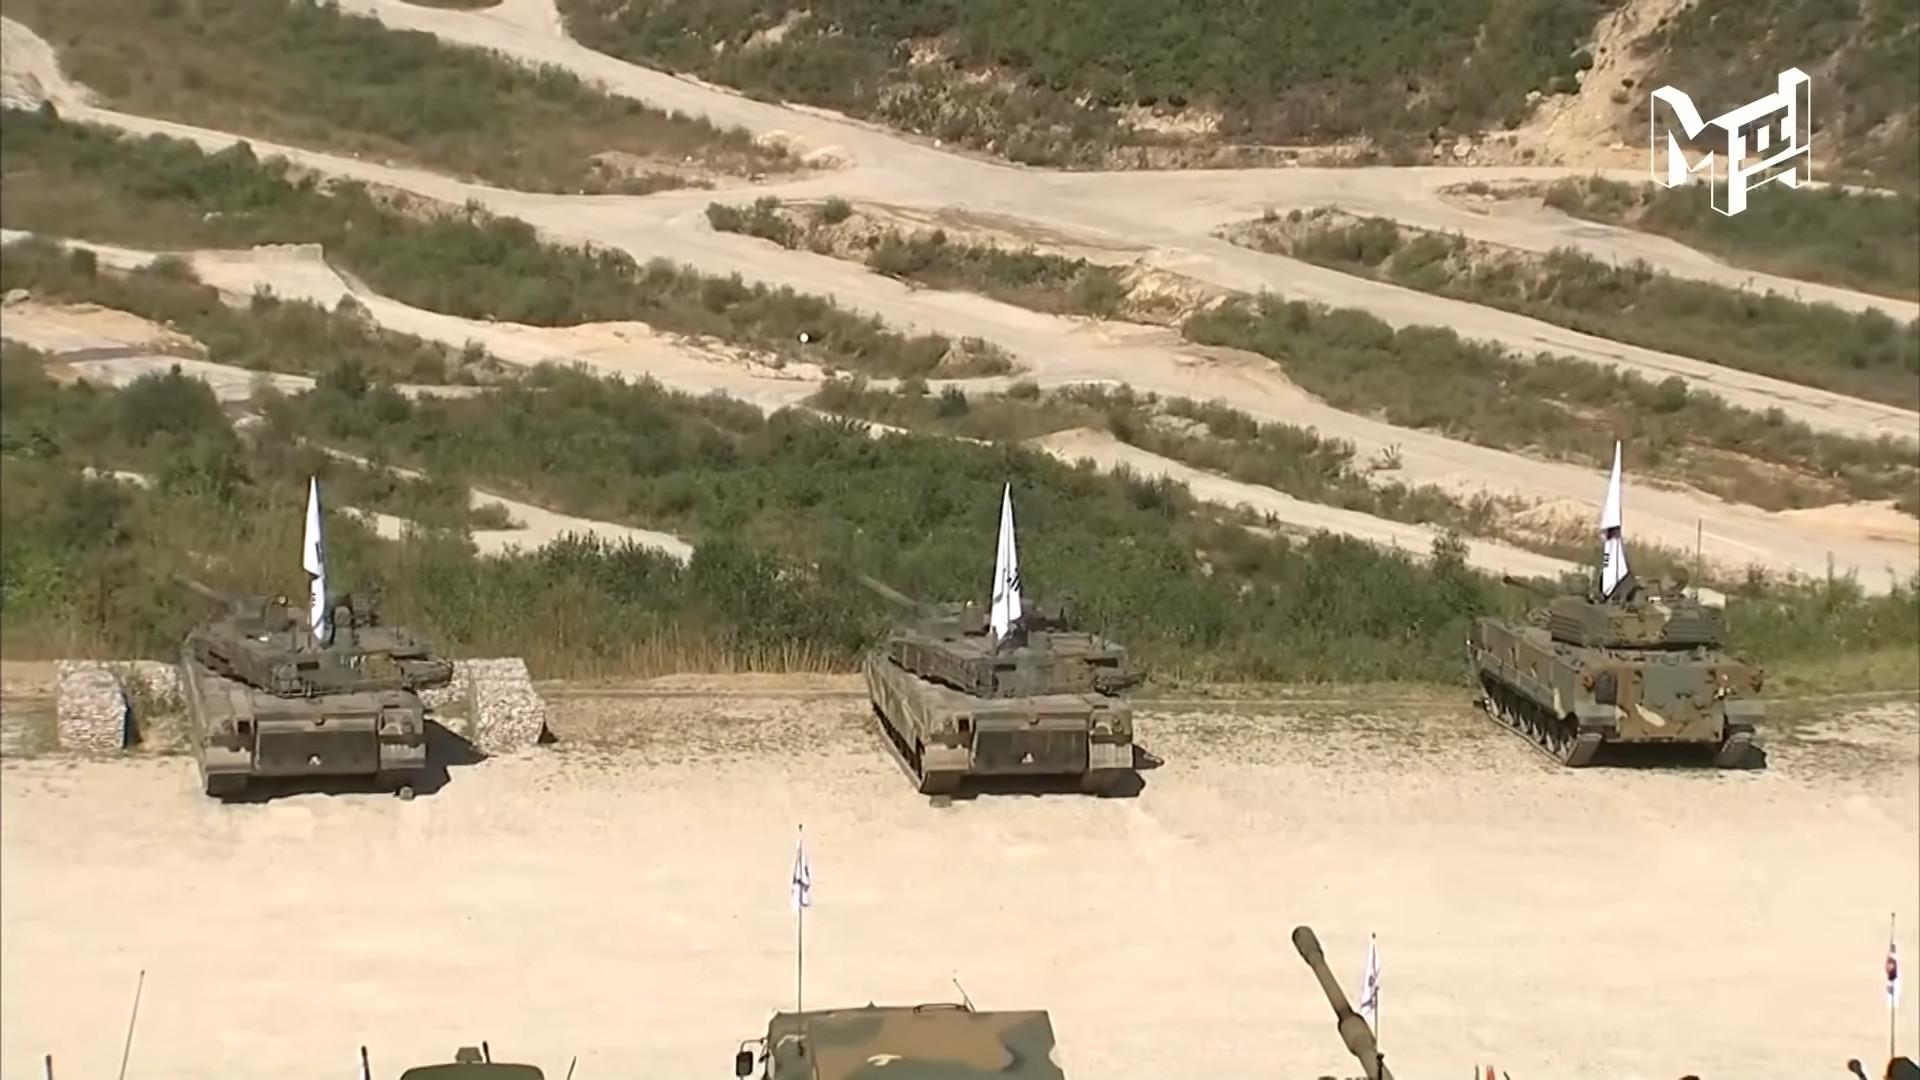tank: (852, 572, 1146, 795), (169, 571, 455, 795), (1468, 572, 1766, 765)
